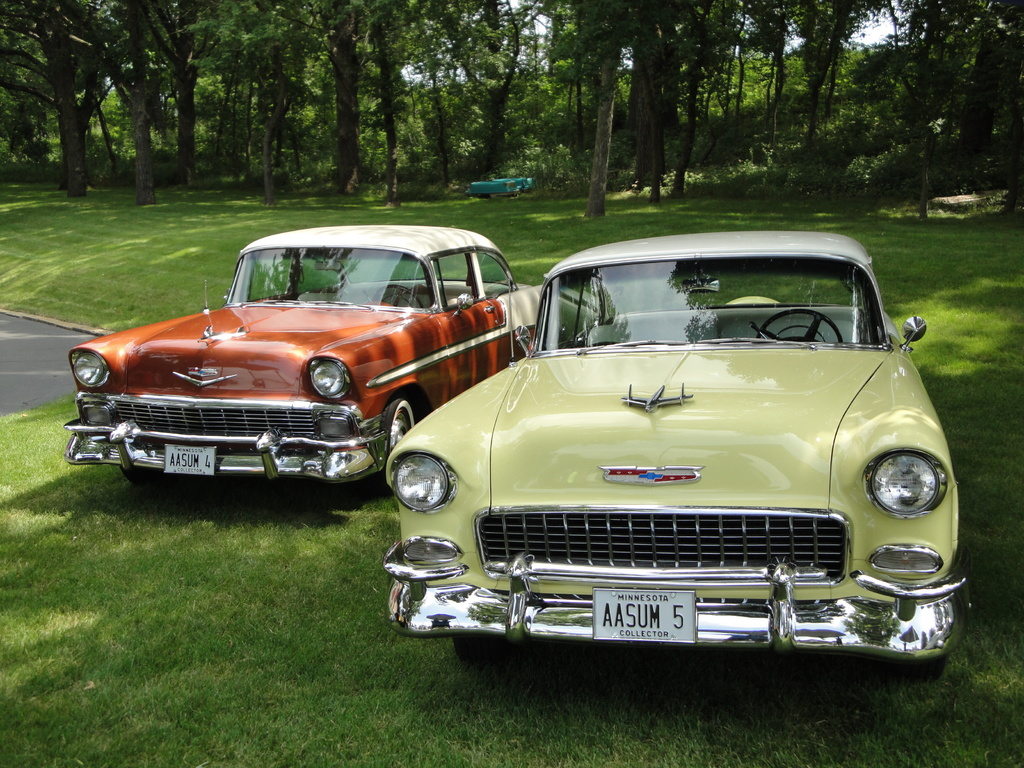Car: (364, 245, 960, 693), (64, 218, 574, 490), (463, 172, 537, 197)
